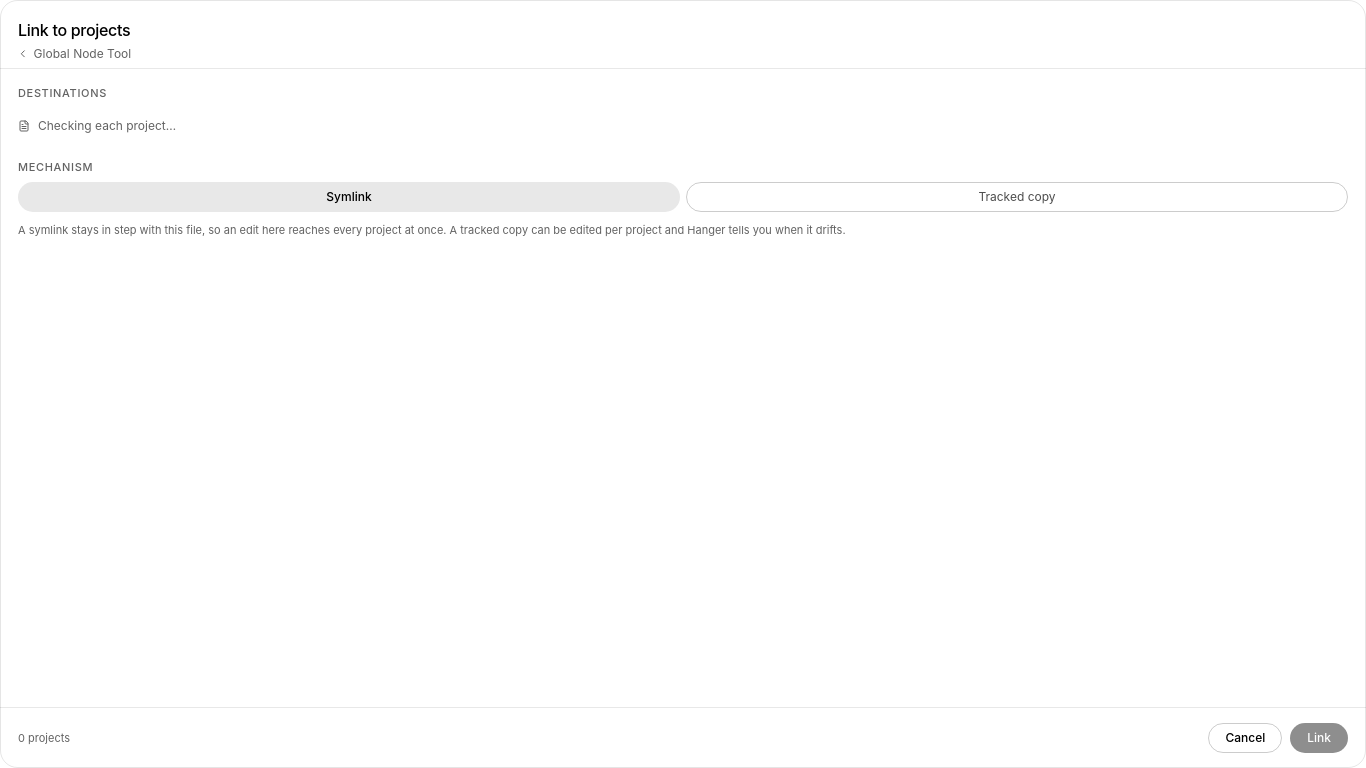
it: Detail Flyout Wiring Integration › hosts the link flow inside the inspector, with a way back to the asset
Expected: the heading reads "Link to projects", left=18, top=20, right=130, bottom=40
Expected: the number of headings is 1, left=18, top=18, right=130, bottom=42
The eyebrow is the way back, and it names where back goes.
Click the button with aria-label "Back to Global Node Tool".
click(75, 54)  # box left=18, top=46, right=131, bottom=62
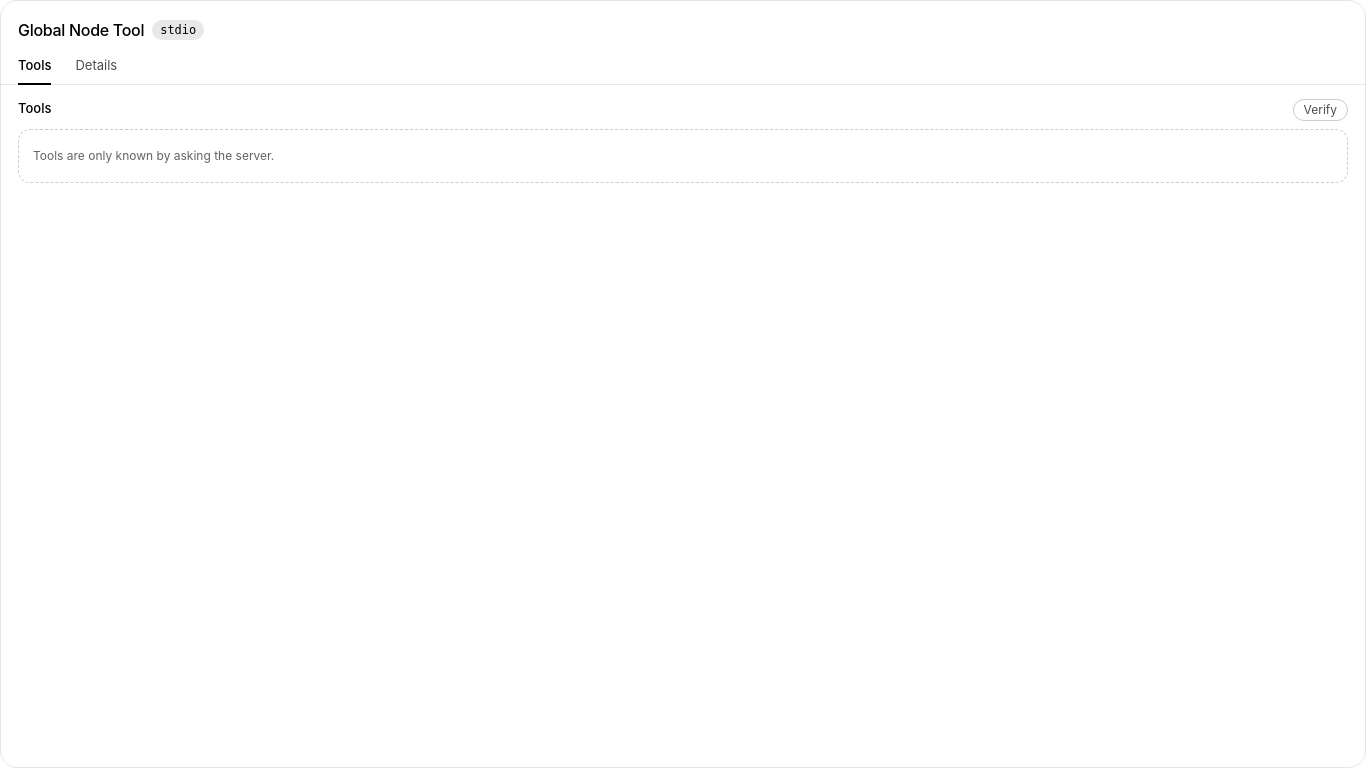
Expected: the heading "Global Node Tool" is shown, left=18, top=18, right=144, bottom=42
